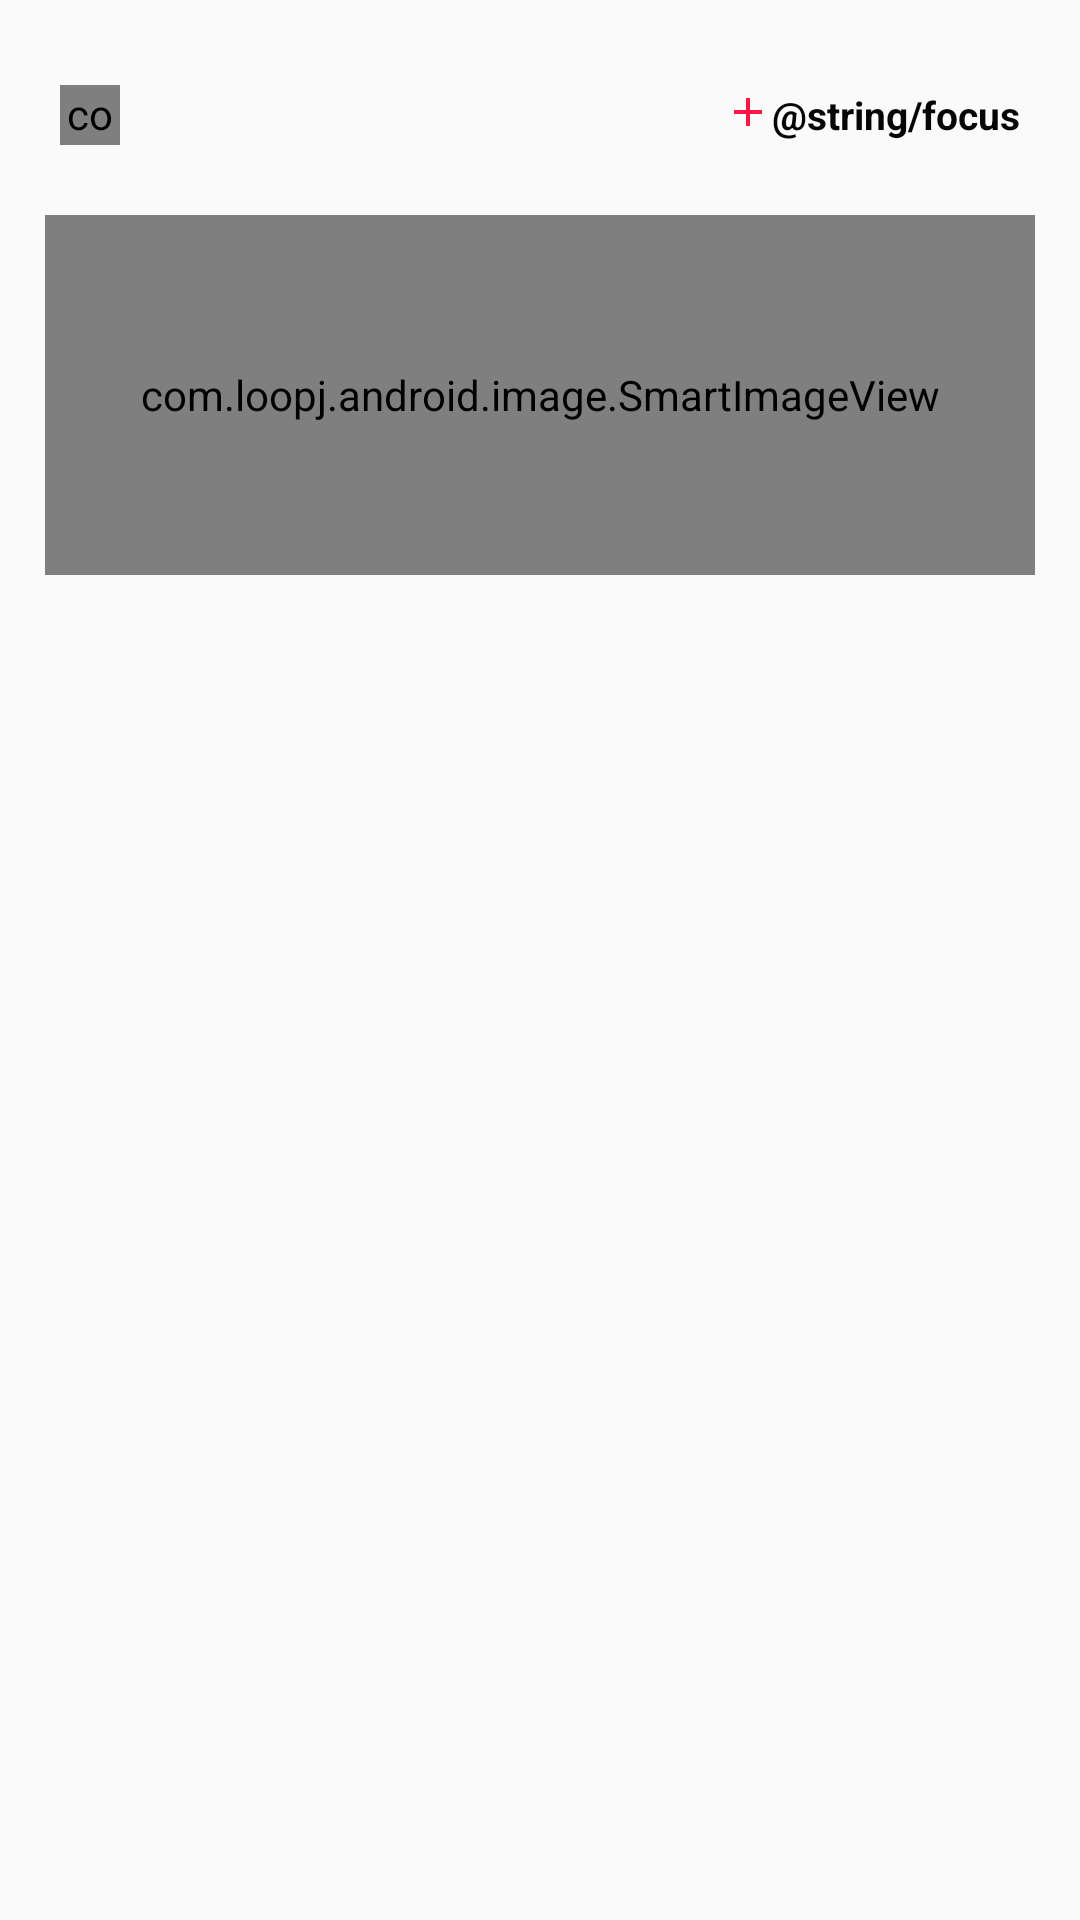

Named icons in this screenshot (1080 × 1920) and their centers, [x,y]:
add: [748,112]
